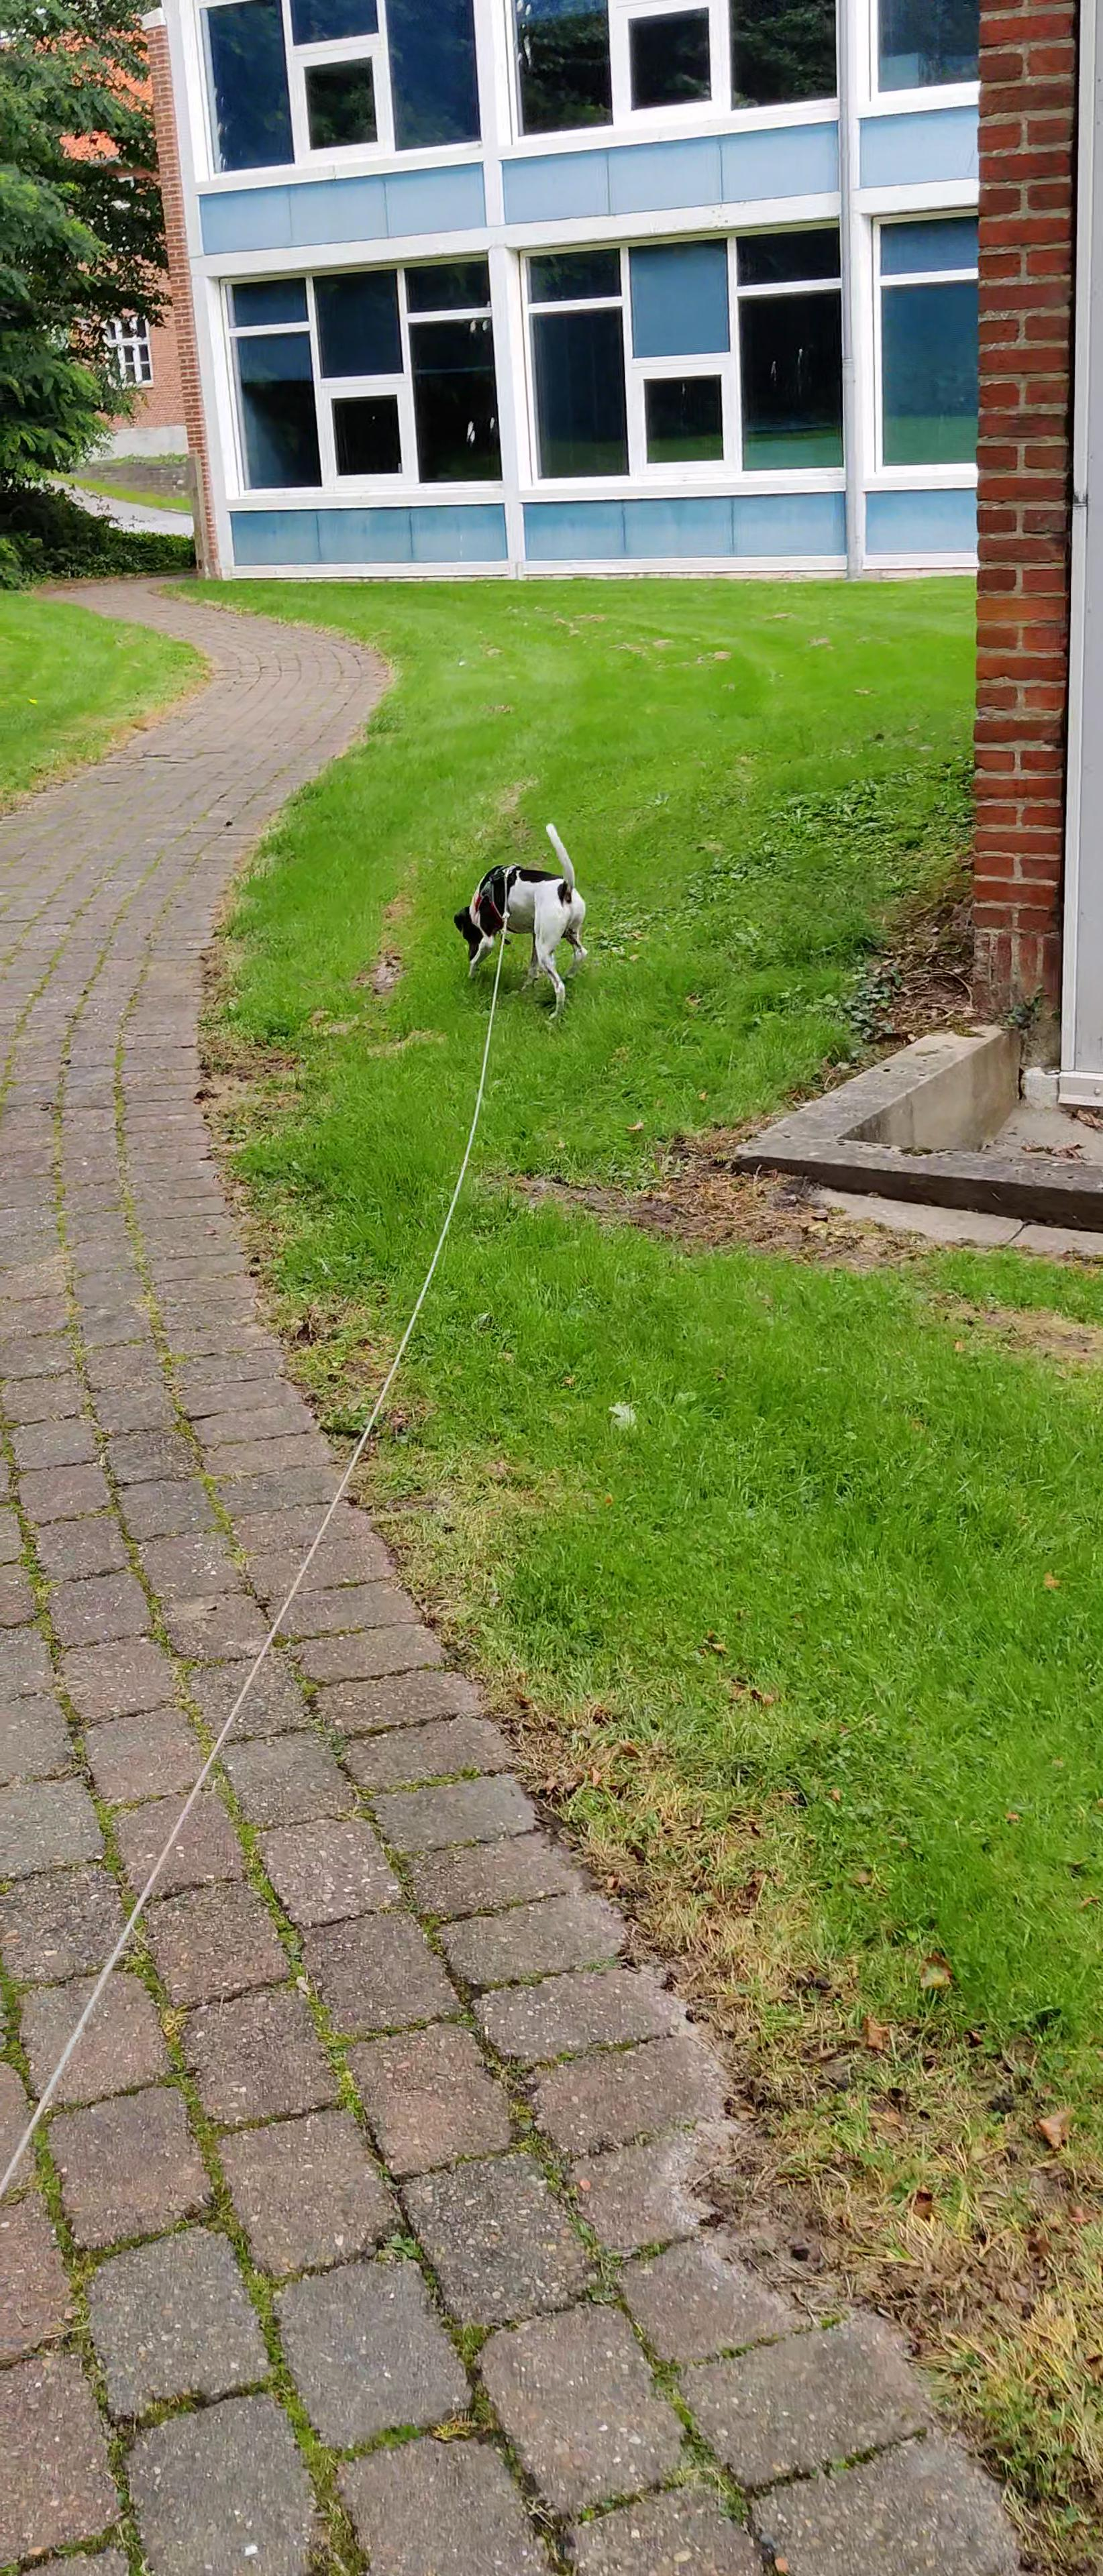Dog: (449, 820, 588, 1025)
